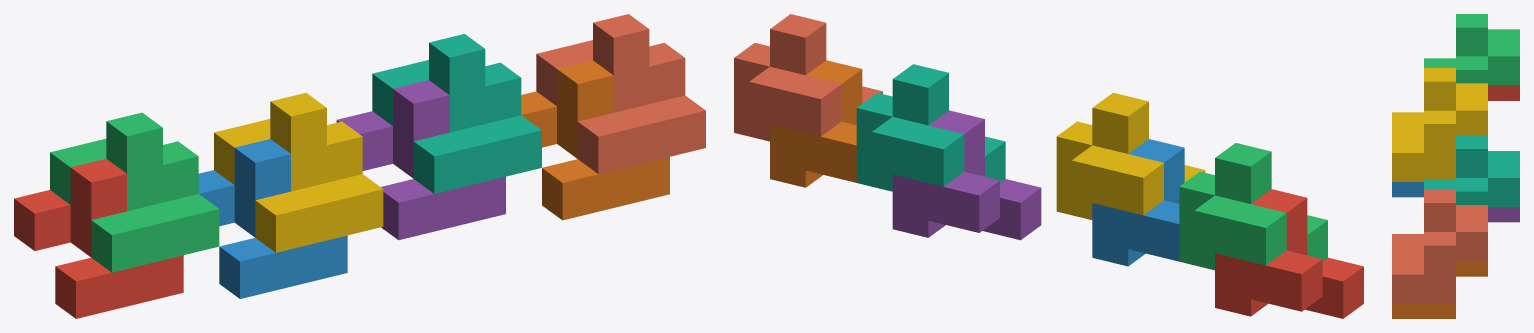
Rendered from tiling.obj.
3 views of the same model, side by side, from view 1: azimuth 30°, elevation 25°; view 2: azimuth 150°, elevation 25°; view 3: azimuth 270°, elevation 25° (orthographic). The views are drawn at different scales.
Parts seen in each view (by area): view 1: copy_1_domain_7, copy_1_domain_8, copy_1_domain_3, copy_1_domain_4, copy_1_domain_1, copy_1_domain_5, copy_1_domain_2, copy_1_domain_6; view 2: copy_1_domain_7, copy_1_domain_3, copy_1_domain_4, copy_1_domain_8, copy_1_domain_1, copy_1_domain_5, copy_1_domain_2, copy_1_domain_6; view 3: copy_1_domain_8, copy_1_domain_4, copy_1_domain_3, copy_1_domain_7, copy_1_domain_6, copy_1_domain_1, copy_1_domain_2, copy_1_domain_5.
Part boxes in pixels (x1=…): copy_1_domain_7: x1=372, y1=34, x2=541, y2=193; copy_1_domain_8: x1=536, y1=14, x2=705, y2=173; copy_1_domain_3: x1=50, y1=112, x2=219, y2=272; copy_1_domain_4: x1=214, y1=93, x2=383, y2=252; copy_1_domain_1: x1=14, y1=158, x2=183, y2=318; copy_1_domain_5: x1=336, y1=80, x2=505, y2=240; copy_1_domain_2: x1=198, y1=139, x2=347, y2=298; copy_1_domain_6: x1=521, y1=60, x2=669, y2=220; copy_1_domain_7: x1=856, y1=64, x2=1005, y2=191; copy_1_domain_3: x1=1179, y1=143, x2=1327, y2=270; copy_1_domain_4: x1=1056, y1=92, x2=1205, y2=219; copy_1_domain_8: x1=734, y1=14, x2=882, y2=141; copy_1_domain_1: x1=1215, y1=189, x2=1363, y2=318; copy_1_domain_5: x1=892, y1=110, x2=1041, y2=240; copy_1_domain_2: x1=1092, y1=139, x2=1184, y2=266; copy_1_domain_6: x1=770, y1=60, x2=862, y2=187; copy_1_domain_8: x1=1392, y1=189, x2=1487, y2=303; copy_1_domain_4: x1=1392, y1=68, x2=1487, y2=181; copy_1_domain_3: x1=1424, y1=14, x2=1519, y2=85; copy_1_domain_7: x1=1424, y1=135, x2=1519, y2=206; copy_1_domain_6: x1=1392, y1=261, x2=1487, y2=318; copy_1_domain_1: x1=1488, y1=85, x2=1519, y2=100; copy_1_domain_2: x1=1392, y1=182, x2=1423, y2=197; copy_1_domain_5: x1=1488, y1=207, x2=1519, y2=222.
Bounding box in the file's own units: 17 × 4 × 4.
